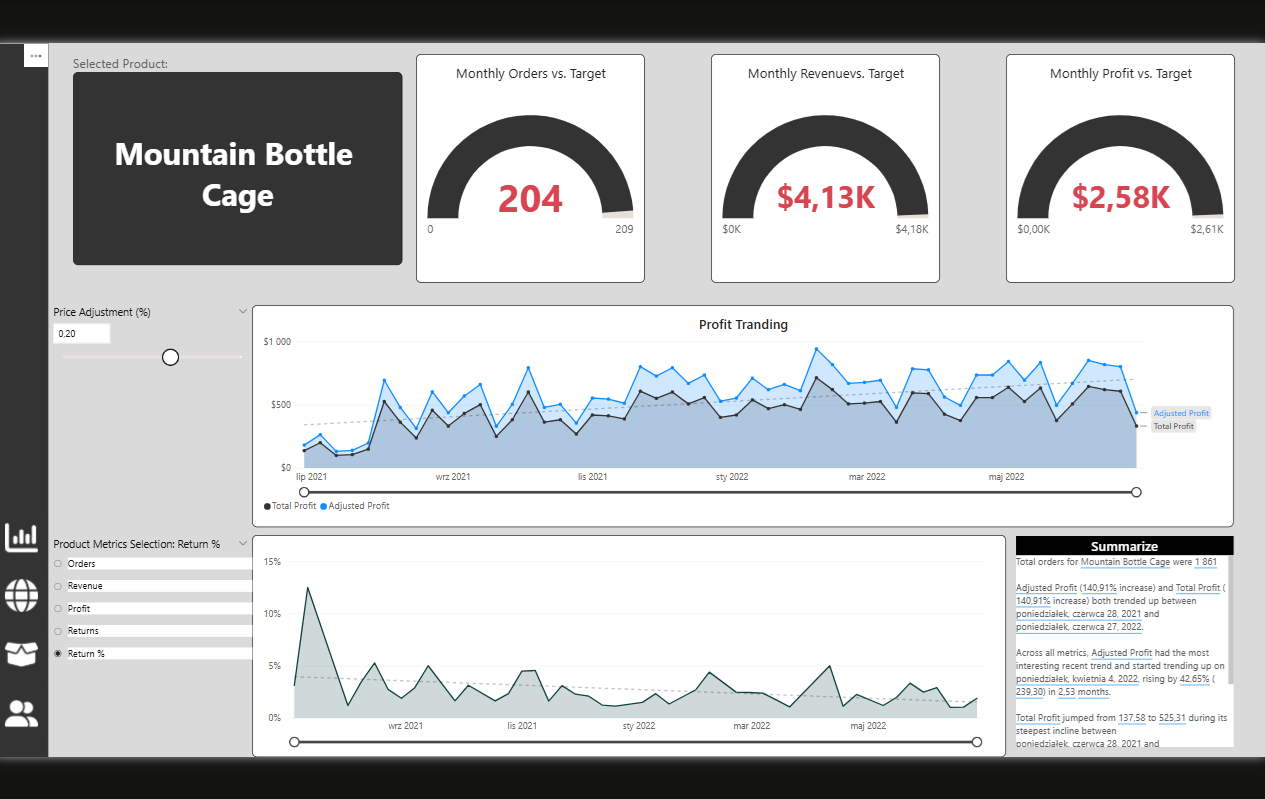

The dashboard page shown, as its layout file describes it:
{"tool":"powerbi","page":{"name":"Product Detail","canvas":[1920,1080],"ordinal":2},"visuals":[{"type":"shape","box":[0,0,81,1081],"z":0},{"type":"gauge","title":"Monthly Orders vs. Target","fields":{"MaxValue":["Measure Table.Order Target"],"Y":["Measure Table.Total Orders"]},"box":[637.1,17.1,345.7,345.7],"z":1000},{"type":"gauge","title":"Monthly Revenuevs. Target","fields":{"MaxValue":["Measure Table.Revenue Target"],"Y":["Measure Table.Total Revenue"]},"box":[1082.9,17.1,345.7,345.7],"z":2000},{"type":"gauge","title":"Monthly Profit vs. Target","fields":{"MaxValue":["Measure Table.Profit Target"],"Y":["Measure Table.Total Profit"]},"box":[1528.6,17.1,345.7,345.7],"z":3000},{"type":"areaChart","title":"Profit Tranding","fields":{"Category":["Calendar Lookup.Date Hierarchy.Start of Year","Calendar Lookup.Date Hierarchy.Start of Month","Calendar Lookup.Date Hierarchy.Start of Week","Calendar Lookup.Date Hierarchy.Date"],"Y":["Measure Table.Total Profit","Measure Table.Adjusted Profit"]},"box":[388.9,395.6,1484.4,335.6],"z":4000},{"type":"areaChart","title":"Return Tranding","fields":{"Category":["Calendar Lookup.Date Hierarchy.Start of Year","Calendar Lookup.Date Hierarchy.Start of Month","Calendar Lookup.Date Hierarchy.Start of Week","Calendar Lookup.Date Hierarchy.Date"],"Y":["Measure Table.Return Rate"]},"box":[388.9,744.4,1140,335.6],"z":5000},{"type":"card","fields":{"Values":["Min(Product Lookup.ProductName)"]},"box":[118,44,498,292],"z":6000},{"type":"textbox","box":[118,18,300,30],"z":7000},{"type":"actionButton","box":[0,712,80,72],"z":8000},{"type":"actionButton","box":[0,887.3,80,74],"z":9000},{"type":"actionButton","box":[0,798.7,80,74],"z":10000},{"type":"actionButton","box":[0,976,80,74],"z":11000},{"type":"slicer","fields":{"Values":["Price Adjustment (%).Price Adjustment (%)"]},"box":[80,395.6,308.9,144.4],"z":12000},{"type":"slicer","fields":{"Values":["Product Metrics Selection.Product Metrics Selection"]},"box":[80,746.7,308.9,204.4],"z":13000},{"type":"textbox","title":"Summarize","box":[1544.1,745.8,328.8,318.6],"z":13001}]}

Visuals, with their boxes on the page's 1920x1080 design canvas (x1, y1, x2, y2). These are canvas units, not pixel positions in the 1265x799 screenshot, which may show the page scaled, cropped or inside an application window:
shape: [0, 0, 81, 1081]
"Monthly Orders vs. Target" gauge: [637, 17, 983, 363]
"Monthly Revenuevs. Target" gauge: [1083, 17, 1429, 363]
"Monthly Profit vs. Target" gauge: [1529, 17, 1874, 363]
"Profit Tranding" areaChart: [389, 396, 1873, 731]
"Return Tranding" areaChart: [389, 744, 1529, 1080]
card - Min(Product Lookup.ProductName): [118, 44, 616, 336]
textbox: [118, 18, 418, 48]
actionButton: [0, 712, 80, 784]
actionButton: [0, 887, 80, 961]
actionButton: [0, 799, 80, 873]
actionButton: [0, 976, 80, 1050]
slicer - Price Adjustment (%).Price Adjustment (%): [80, 396, 389, 540]
slicer - Product Metrics Selection.Product Metrics Selection: [80, 747, 389, 951]
"Summarize" textbox: [1544, 746, 1873, 1064]
